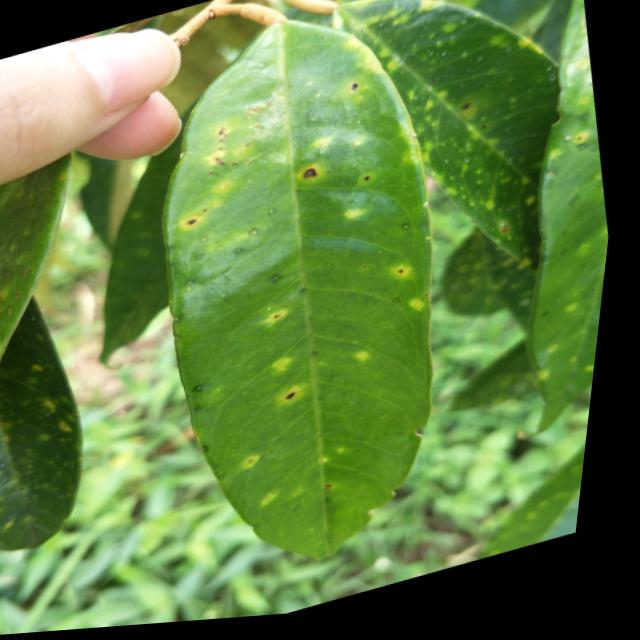Leaf Spot: (247, 282, 353, 453), (156, 112, 270, 249), (271, 133, 428, 230)
